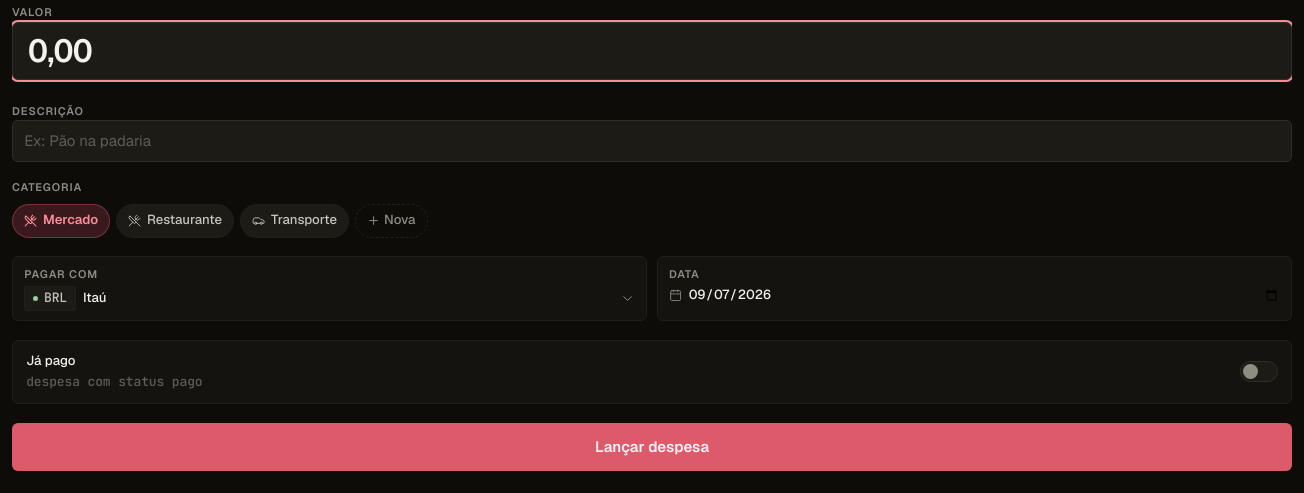
<LancarForm> › C9 — modo cartão: some o "Já pago", data vira "Data da compra" e preview mostra o vencimento
Expected: the button "Já pago despesa com status pago" is shown, [12,340,1292,404]
Expected: the text "Data" is shown, [669,267,700,281]
Click the dropdown named "Pagar com". click: click(95, 298)
box: [83,289,635,308]
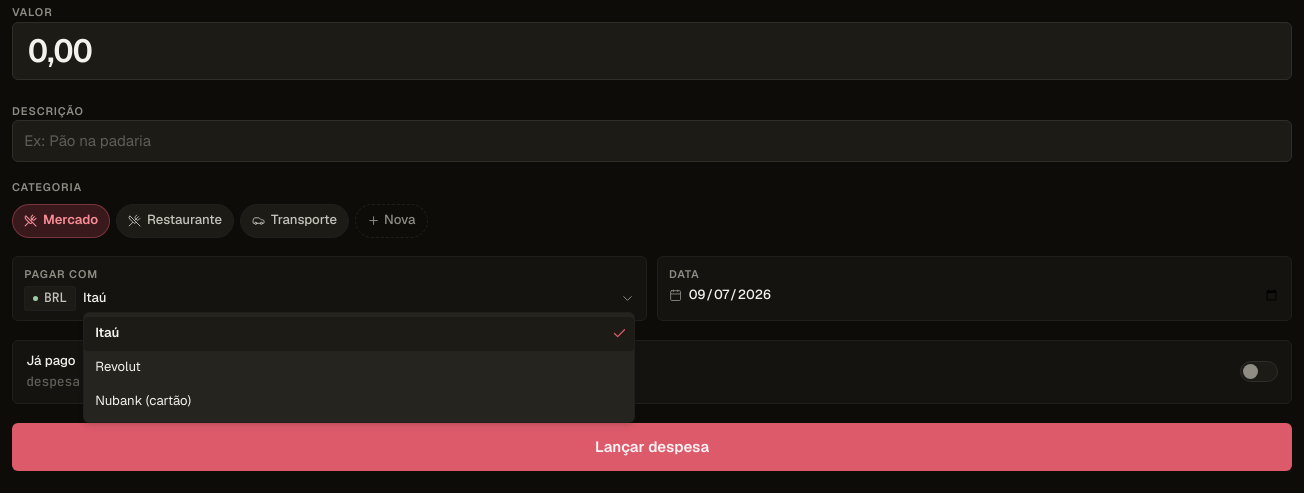
Click the option "Nubank (cartão)". click: click(143, 400)
box: [95,392,191,409]
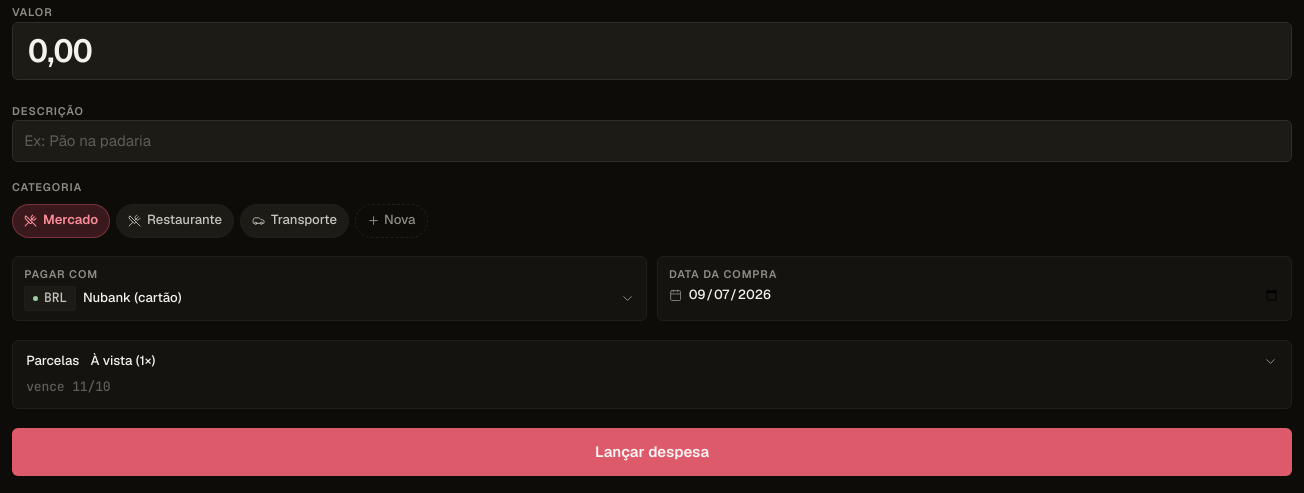
Result: the button "Já pago" is gone
Result: the text "Data da compra" is shown at [669,267,777,281]
Result: the text with test id "card-due-preview" reads "vence 11/10" at [26,378,110,395]
